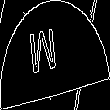M_S: (39, 27, 71, 83)
